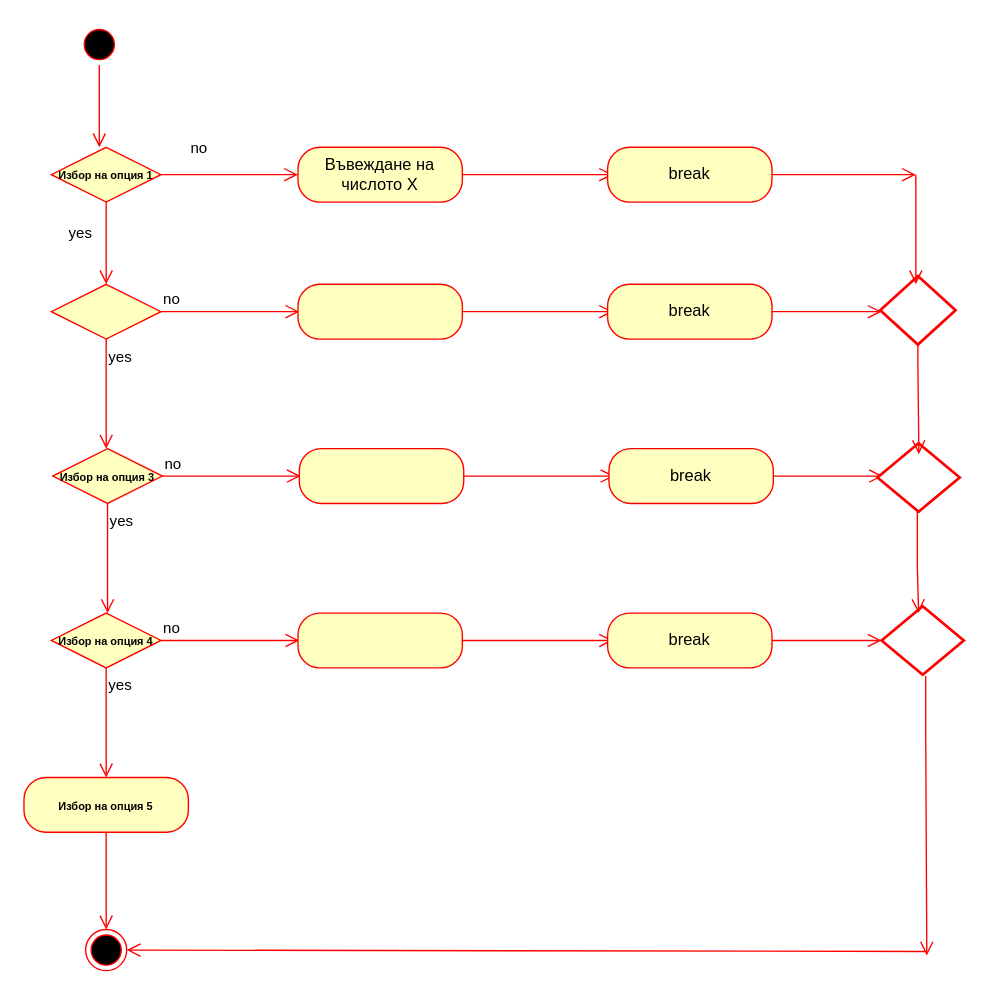
The diagram is 989 pixels wide and 995 high, and some of its shapes have lost their labels. The box of each missing label's shape, as (x1, y1, x2, y2) in pixels:
Избор на опция 2: (50, 283, 161, 339)
Изчисляване на exp(X): (297, 283, 462, 339)
Изчисляване на floor(X): (297, 612, 462, 668)
Изчисляване на sin(X): (298, 447, 464, 503)
